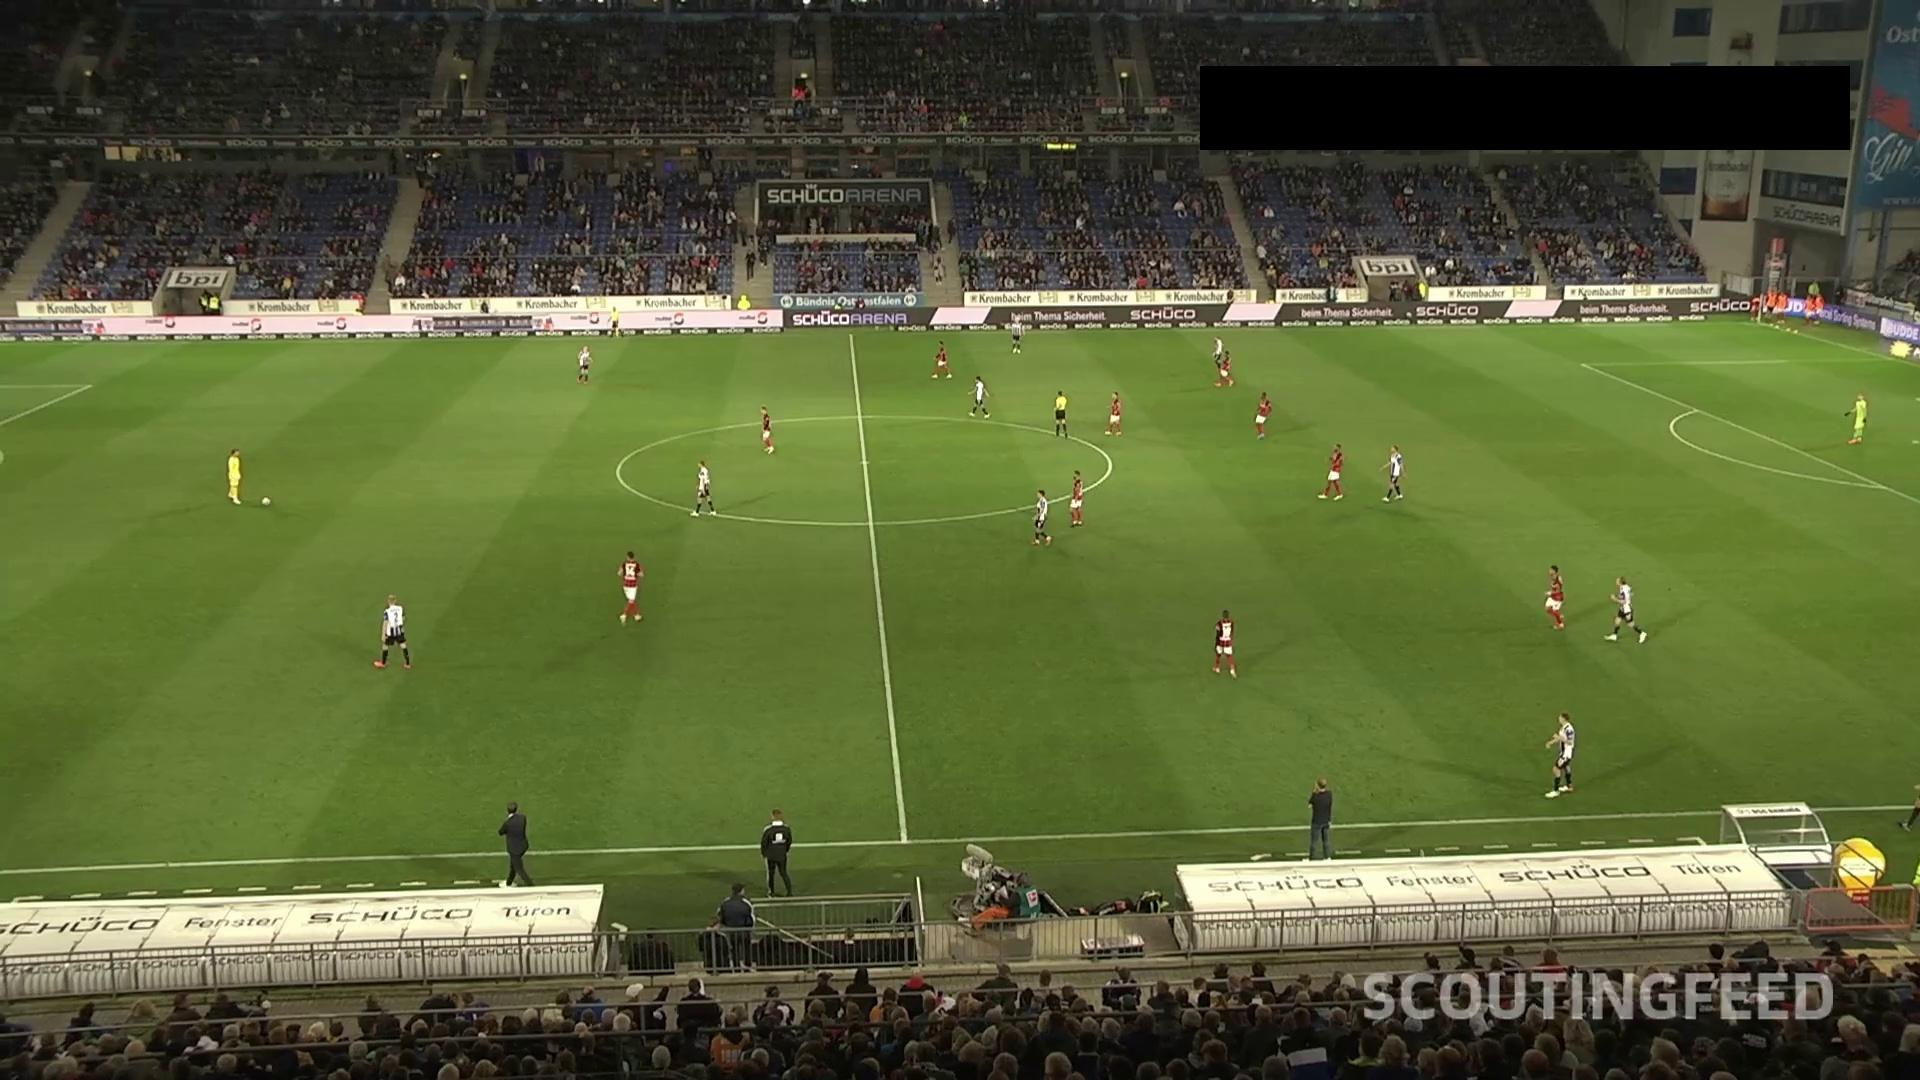Location-of-ball: (249, 492, 286, 512)
